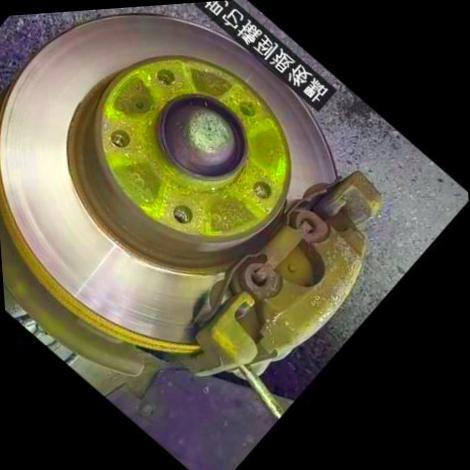hole: (164, 198, 200, 232), (103, 123, 137, 156), (246, 176, 276, 206), (149, 62, 179, 92)
